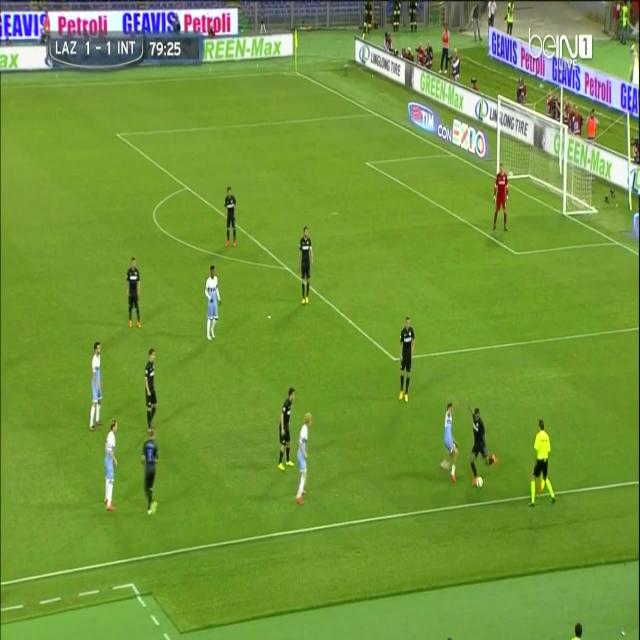Ball: (475, 472, 485, 492)
Goalkeeper: (490, 162, 512, 236)
Player: (468, 401, 498, 485), (292, 407, 315, 509), (438, 399, 461, 485), (276, 386, 298, 474), (142, 427, 162, 520), (396, 316, 417, 404), (101, 418, 120, 515), (87, 339, 105, 432), (298, 224, 315, 309), (205, 264, 222, 344), (125, 254, 142, 329), (143, 346, 158, 431), (222, 184, 240, 252)
Referee: (528, 414, 558, 509)
